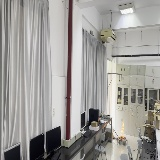fire: (119, 119, 124, 139)
